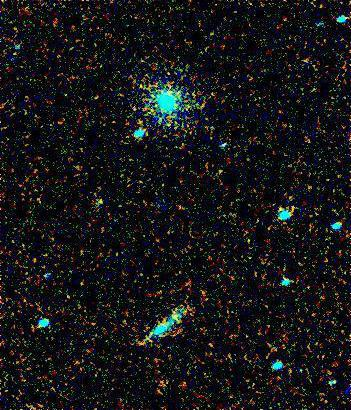star: (85, 187, 115, 217)
